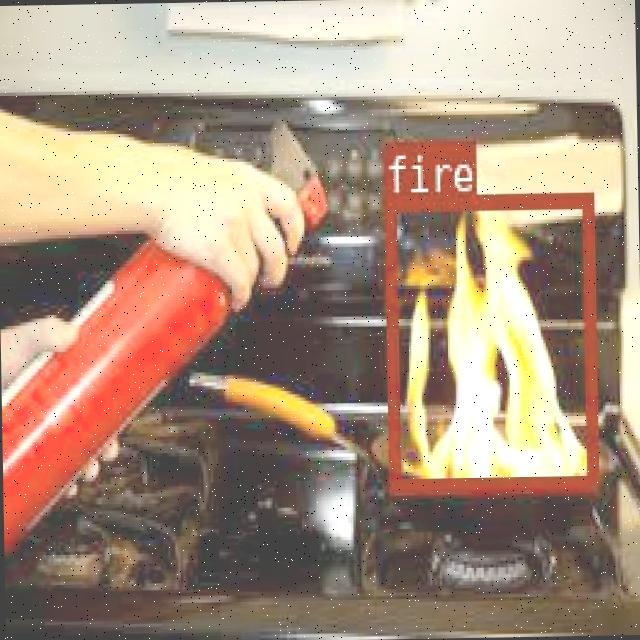fire: (382, 191, 596, 492)
